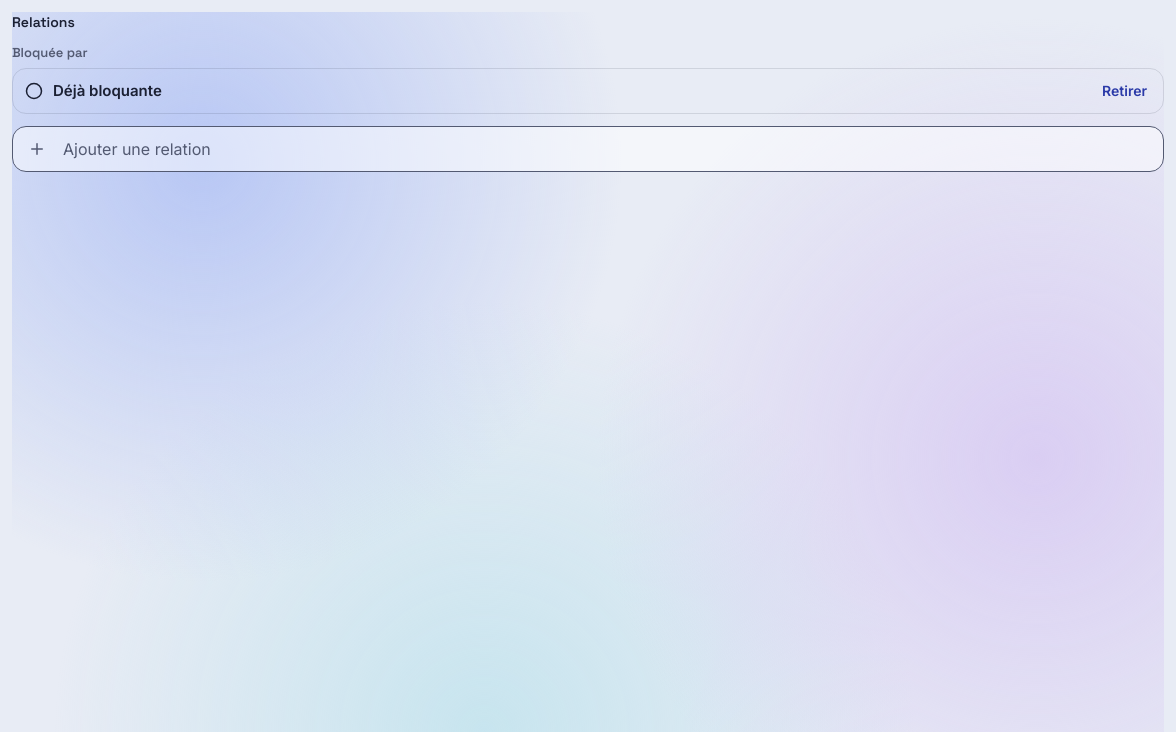
Test: section « Relations » du détail › la liste ne propose pas les tâches déjà reliées par ce type, ni la tâche
Later steps or results of the test are not shown.
Click the button "Ajouter une relation".
click(137, 149)  # box [12,126,1164,172]
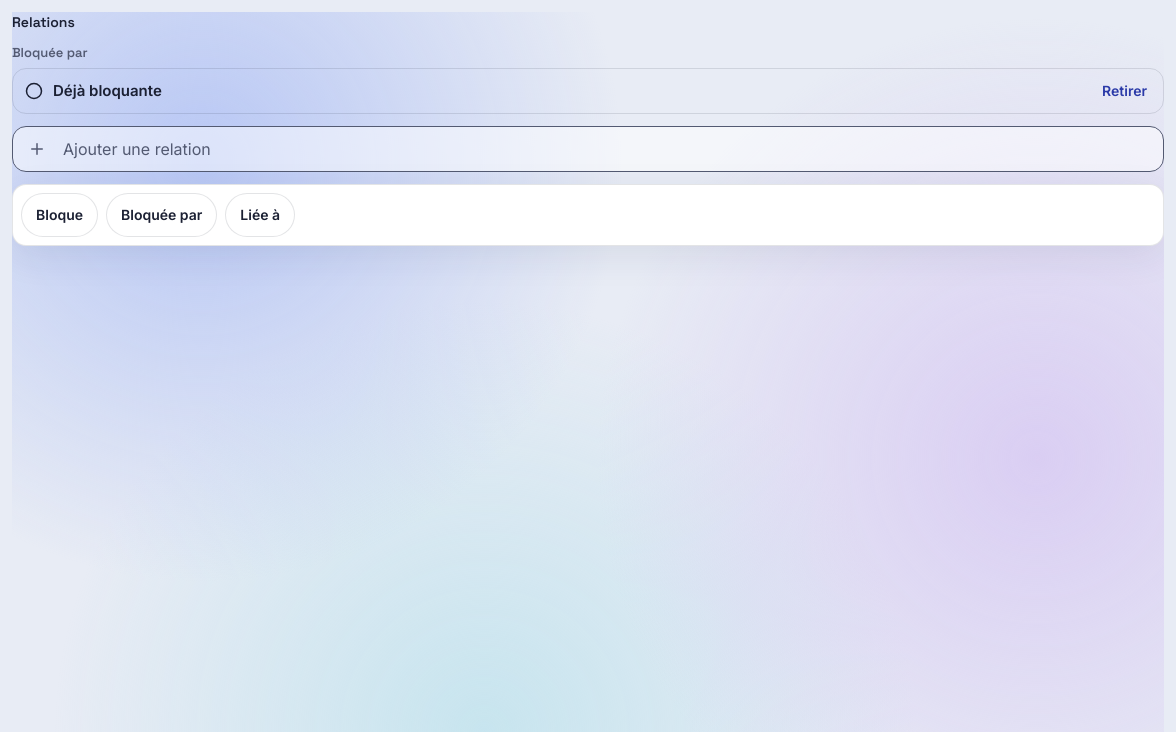
Click the button "Bloquée par".
click(162, 216)  # box [106,194,217,238]
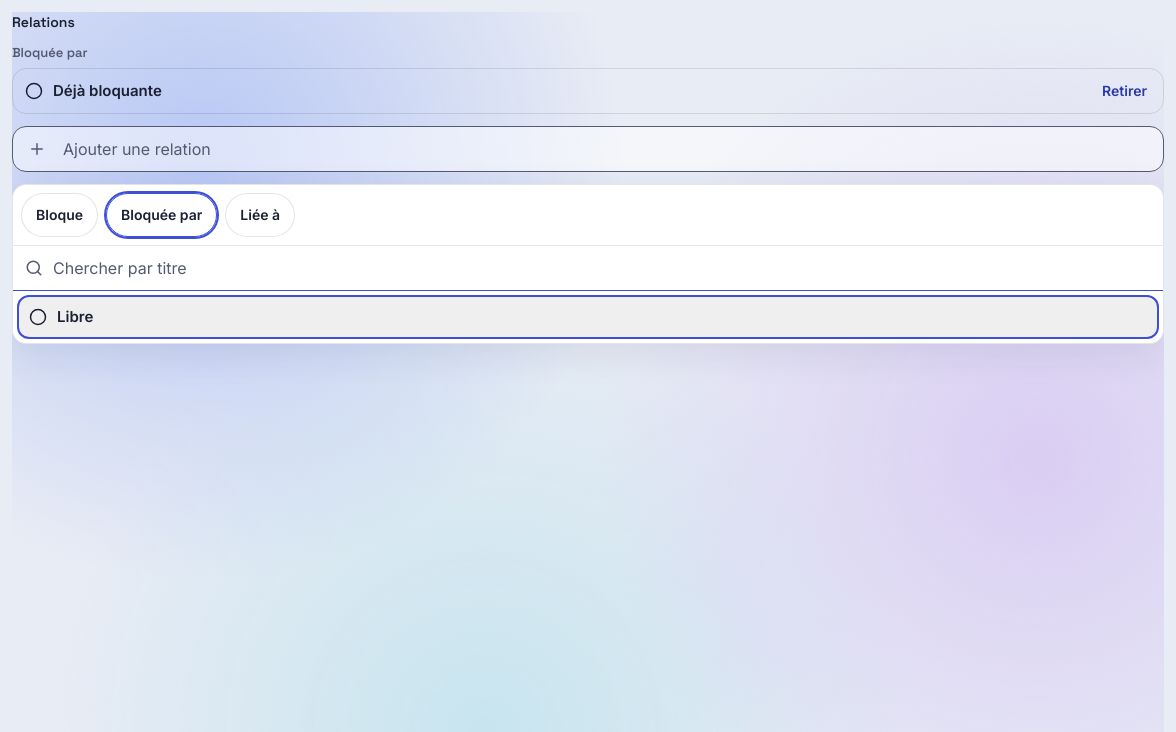
Expected: the text "Libre" is shown, [57,306,93,329]
